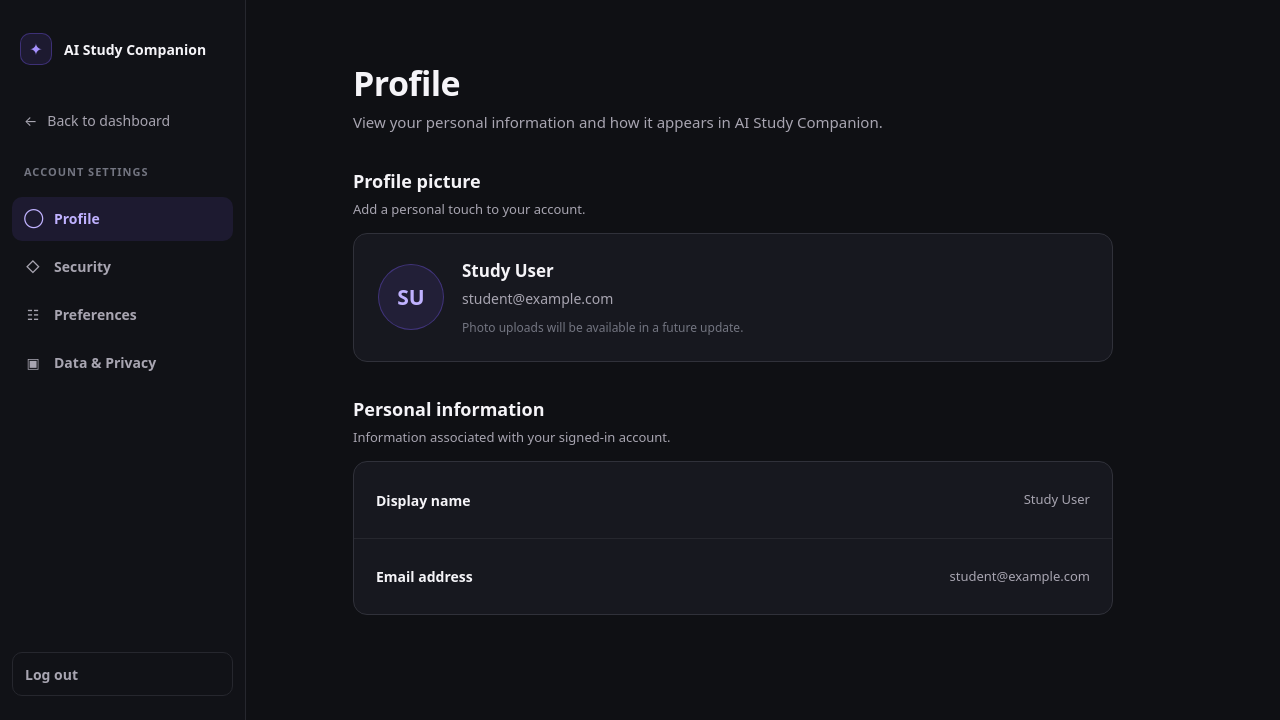
Account settings workspace › shows logout errors without navigating away
Click the button "Log out". click: [122, 674]
box: [12, 652, 233, 696]
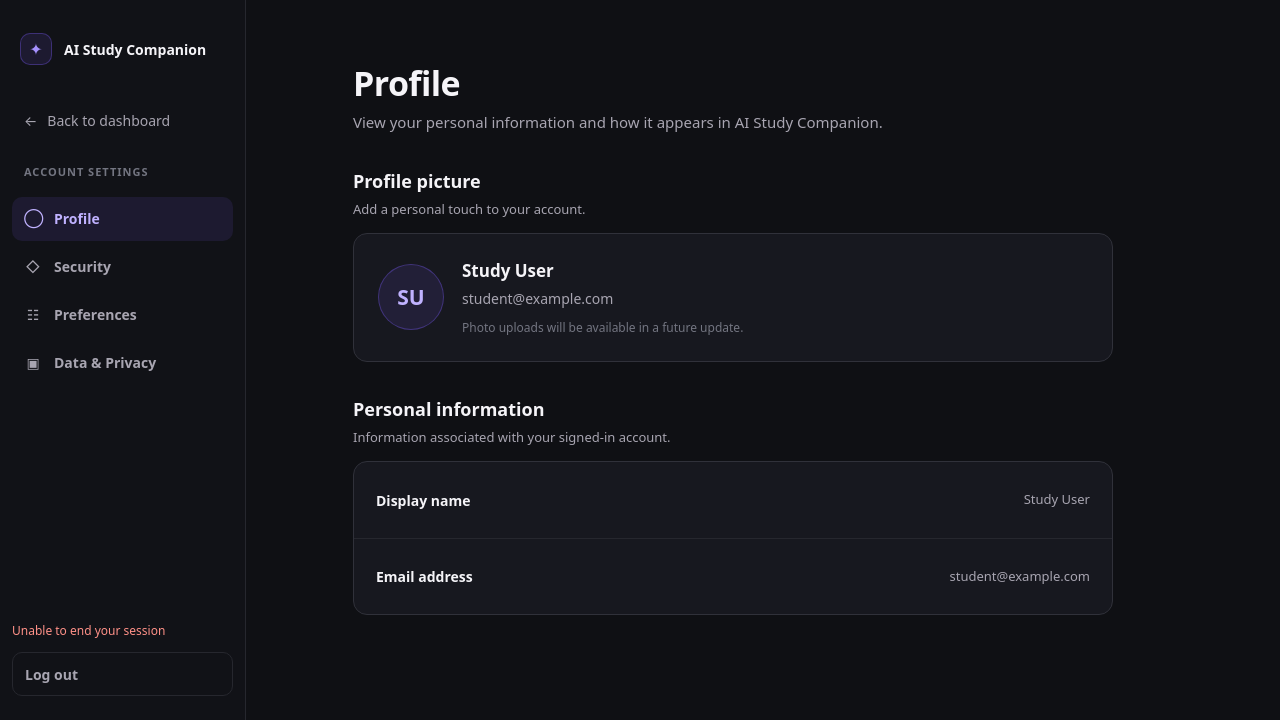
Expected: the element named "Settings navigation" is shown, [0, 0, 246, 719]
Expected: the message reads "Unable to end your session", [12, 622, 165, 639]
